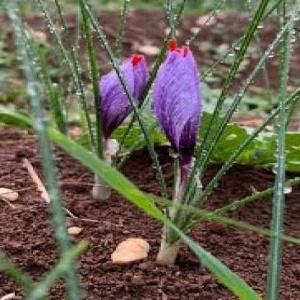Saffron: (154, 47, 202, 169), (95, 53, 149, 145)
